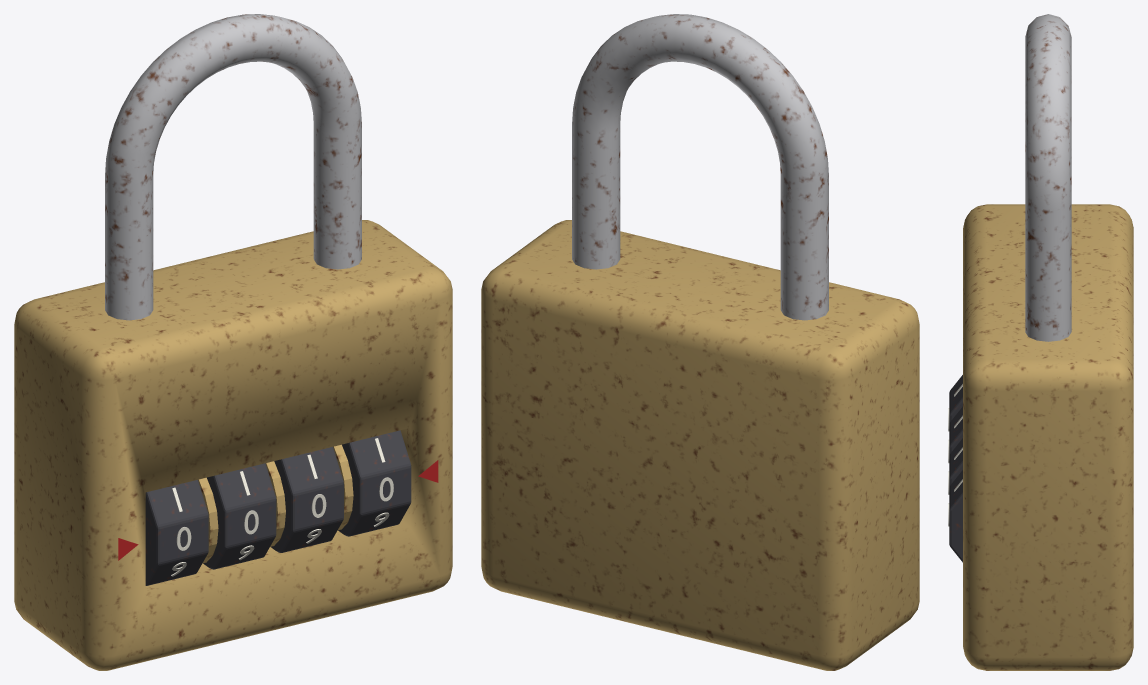
File: DialLock_Number.fbx
The picture shows the model from 3 angles, left to right: view 1: azimuth 30°, elevation 25°; view 2: azimuth 150°, elevation 25°; view 3: azimuth 270°, elevation 25°; orthographic projection. The views are drawn at different scales.
Visible parts, largest first — view 1: DialLock_Number_Body, DialLock_Number_Shackle, DialLock_Number; view 2: DialLock_Number_Body, DialLock_Number_Shackle; view 3: DialLock_Number_Body, DialLock_Number_Shackle, DialLock_Number.
Boxes of the visible parts, left/top/right/bottom form: DialLock_Number_Body: left=14, top=220, right=452, bottom=670; DialLock_Number_Shackle: left=105, top=14, right=361, bottom=320; DialLock_Number: left=145, top=430, right=411, bottom=585; DialLock_Number_Body: left=481, top=220, right=919, bottom=670; DialLock_Number_Shackle: left=572, top=14, right=828, bottom=320; DialLock_Number_Body: left=963, top=204, right=1133, bottom=670; DialLock_Number_Shackle: left=1025, top=14, right=1071, bottom=341; DialLock_Number: left=948, top=375, right=962, bottom=562.
Size of the model in its own units: 0.06 by 0.0914 by 0.0272.
Materials: 1 (1 with a texture image).
